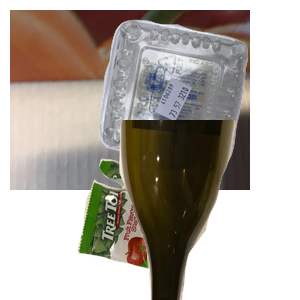cardboard: (10, 10, 250, 190)
glass: (117, 120, 300, 300)
plastic: (97, 17, 300, 176)
trash: (75, 156, 244, 300)
